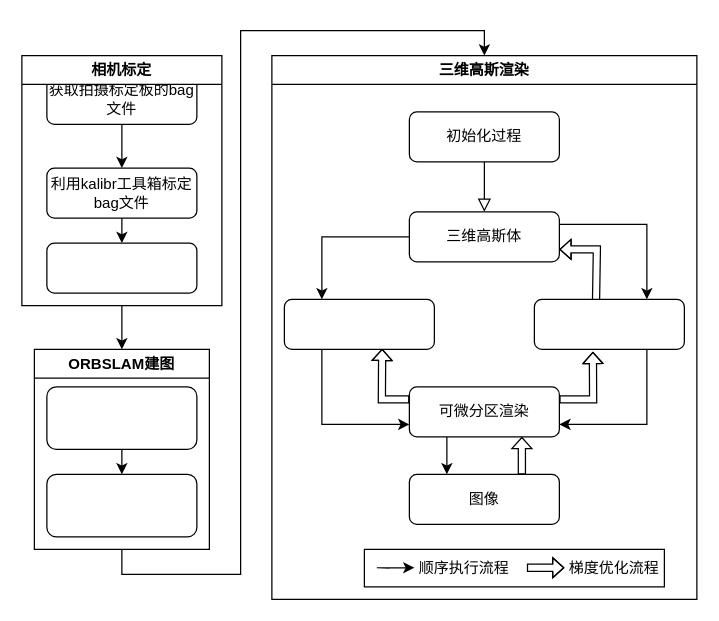
Image size: 719x621. Some labels were removed from this diagram. The shapes that lost their labels are listed below. From the top down, each one's centre as x and y in pixels, then its label:
the point at 121,267: 获取校正后的拍摄重建物体的bag文件
the point at 358,323: 自适应密度控制
the point at 608,323: 投影
the point at 121,417: 在ROS下启动修改后的ORBSLAM3单目模式
the point at 121,505: 播放重建物体bag文件，获取地图3d点云和相机位姿
